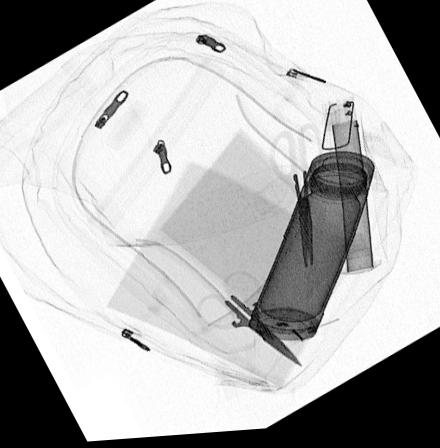Scissors: (192, 270, 307, 375), (263, 120, 326, 278)
